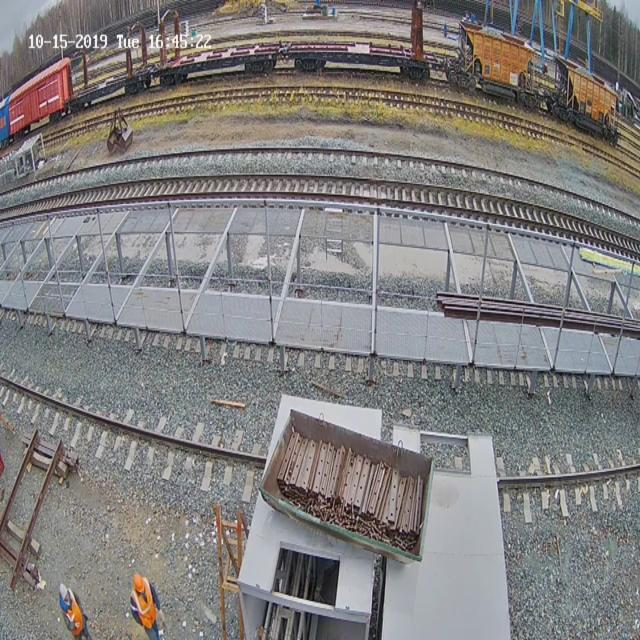Person: (130, 573, 161, 639), (59, 582, 92, 640)
